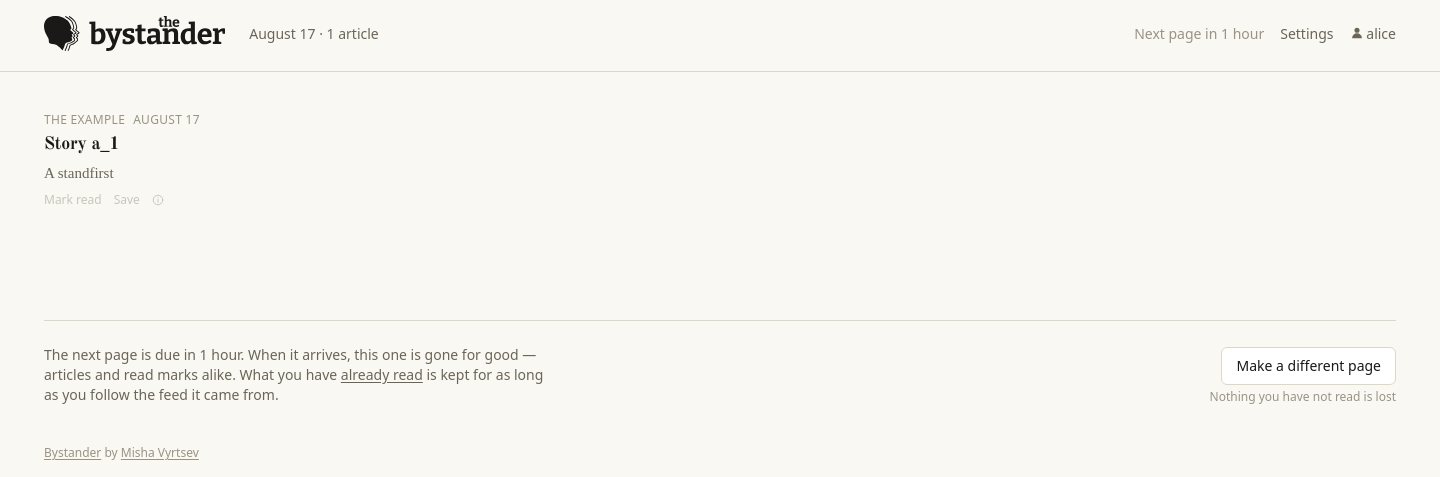
Test: ReaderPage › saves an article, reads it, and asks for the tabs again
The image size is (1440, 477).
Expected: the link "Story a_1" is shown, [44, 135, 120, 153]
Click the button "Save": [127, 200] box [114, 192, 140, 208]
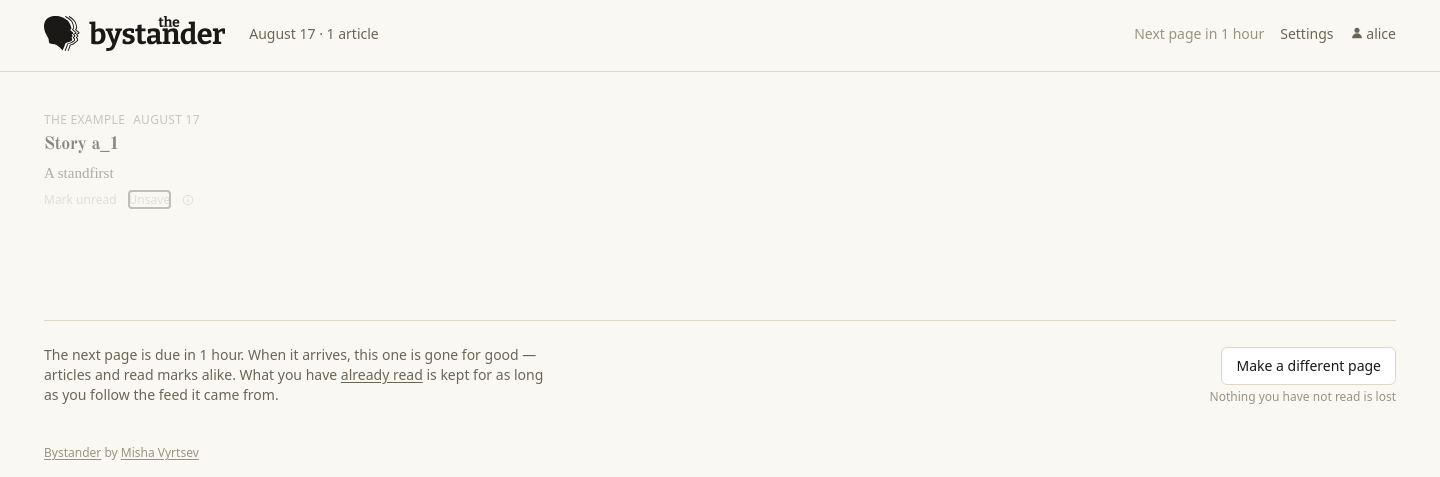
Expected: the button "Unsave" is shown, [128, 192, 170, 208]
Expected: the button "Mark unread" is shown, [44, 192, 116, 208]
